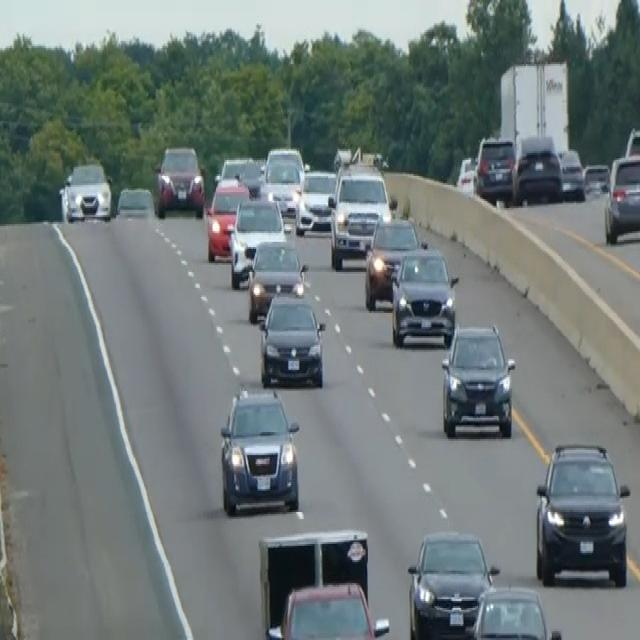car: (534, 439, 630, 589), (218, 386, 300, 516), (406, 526, 499, 638), (440, 320, 516, 439), (266, 578, 390, 638), (390, 244, 458, 348), (327, 160, 392, 268), (257, 288, 326, 388), (363, 213, 423, 311), (227, 194, 286, 288), (466, 583, 562, 638), (246, 236, 307, 322), (204, 176, 250, 261), (154, 142, 205, 217), (512, 133, 563, 204), (603, 151, 639, 244), (60, 158, 112, 222), (473, 133, 516, 203), (294, 167, 337, 235), (260, 157, 303, 215), (216, 154, 262, 196), (264, 144, 305, 185), (558, 146, 586, 201), (115, 183, 155, 219), (583, 160, 609, 196), (455, 153, 477, 195), (623, 123, 639, 158)
truck: (256, 526, 371, 638), (497, 57, 571, 158)
